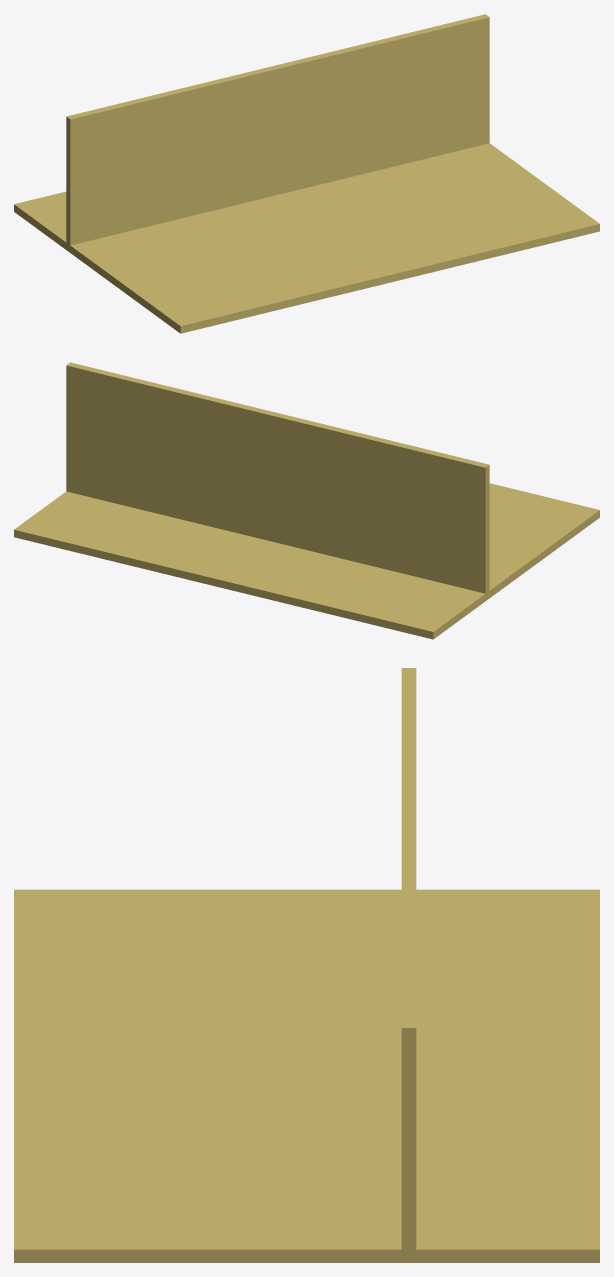
The model's file is WallFloorModel.gltf.
3 renders of one model, top to bottom at view 1: azimuth 30°, elevation 25°; view 2: azimuth 150°, elevation 25°; view 3: azimuth 270°, elevation 25°, orthographic. The views are drawn at different scales.
Visible parts, largest first — view 1: polySurface1392; view 2: polySurface1392; view 3: polySurface1392.
Boxes of the visible parts, x1,y1,x2,y2 form: polySurface1392: (14,14,599,333); polySurface1392: (14,362,599,639); polySurface1392: (14,668,599,1262).
Bounding box in the file's own units: 109 × 33.26 × 75.21.
